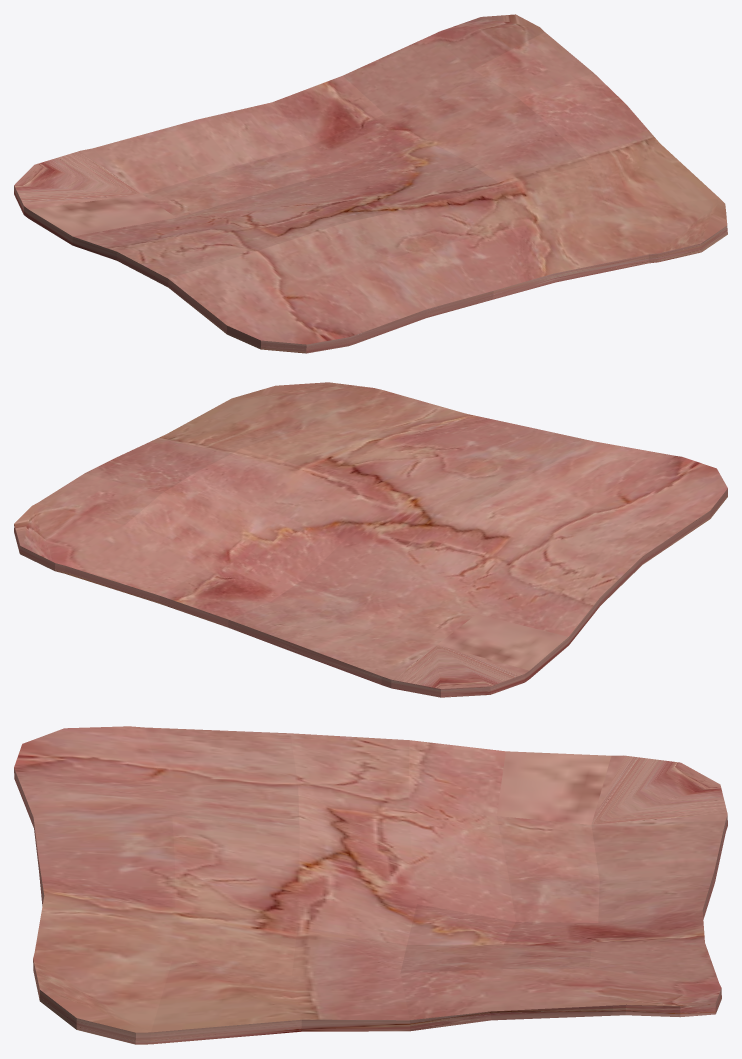
File: Smoked_Ham.fbx
3 renders of one model, top to bottom at view 1: azimuth 30°, elevation 25°; view 2: azimuth 150°, elevation 25°; view 3: azimuth 270°, elevation 25°, orthographic. The views are drawn at different scales.
Parts seen in each view (by area): view 1: Cube; view 2: Cube; view 3: Cube.
Boxes of the visible parts, <box> form: Cube: <box>14,14,727,353</box>; Cube: <box>14,382,727,697</box>; Cube: <box>14,726,727,1044</box>.
Bounding box in the file's own units: 166 × 19.98 × 160.
1 material, 1 textured.
